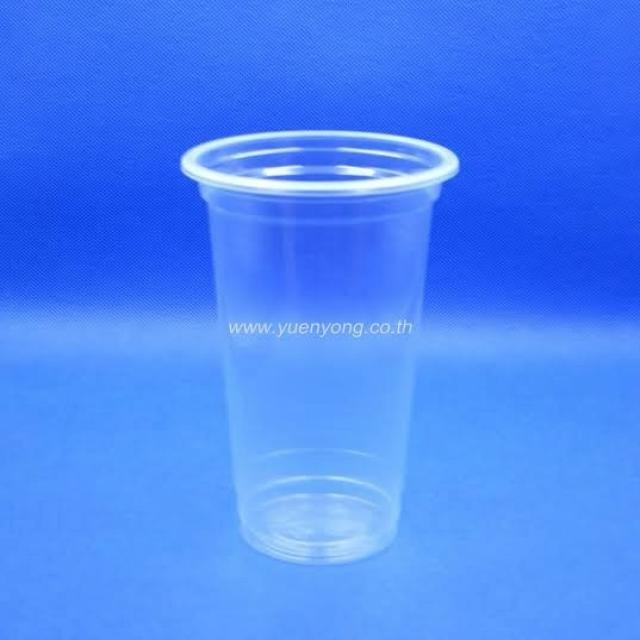plastic cup: (170, 129, 457, 565)
